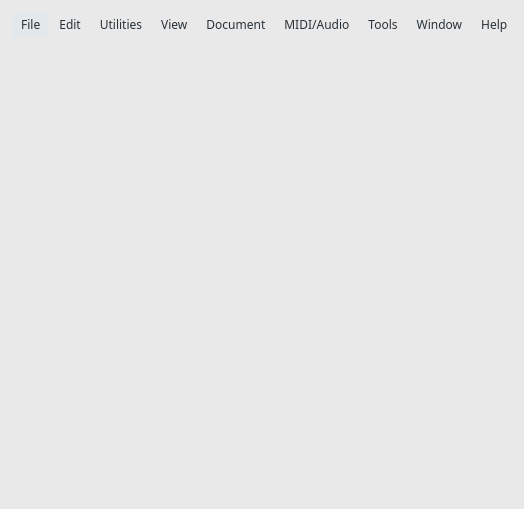
Scenario: desktop chrome interactions › menu arrows skip disabled commands and Escape restores menu-button focus
This screenshot has width=524, height=509.
Click the button "Edit". click: (70, 24)
box: [50,12,90,37]
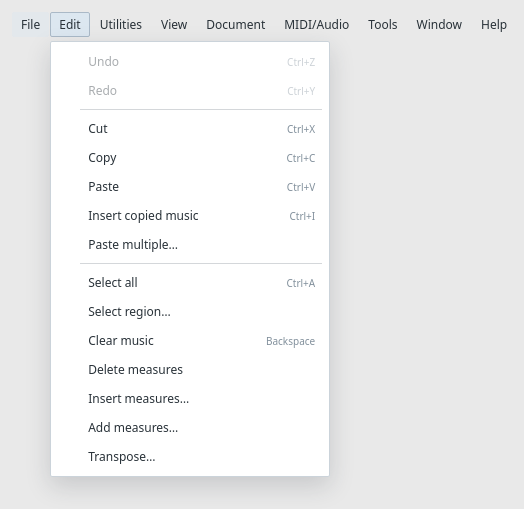
Press ArrowDown in the button "Edit", box [50,12,90,37]
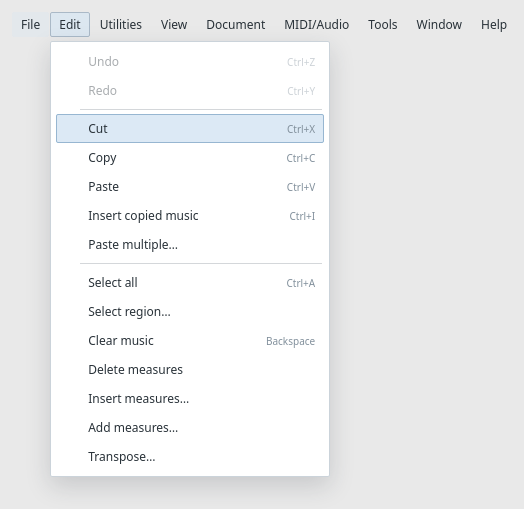
Press ArrowDown in the menu item "Cut Ctrl+X", box [56,114,324,143]
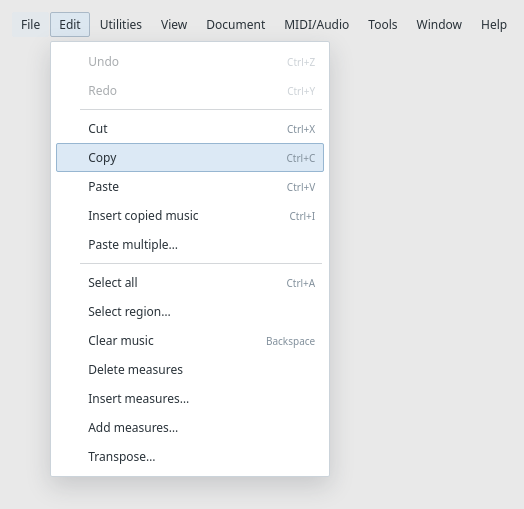
Press Escape in the menu item "Copy Ctrl+C", box [56,143,324,172]
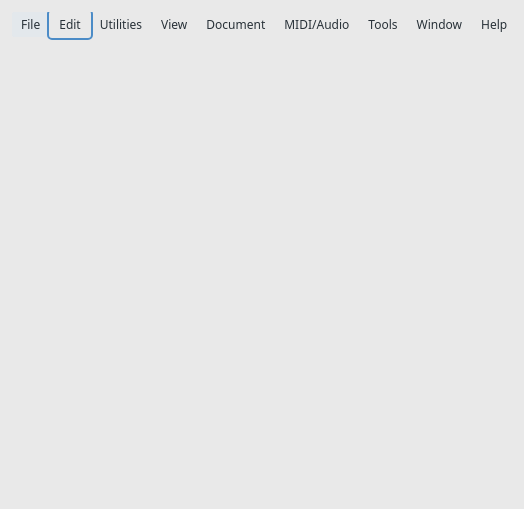
Expected: the menu is gone
